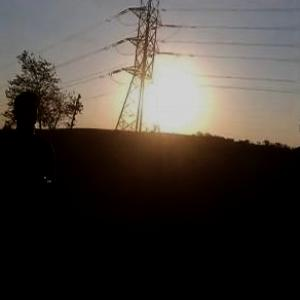follow: (0, 84, 63, 299)
